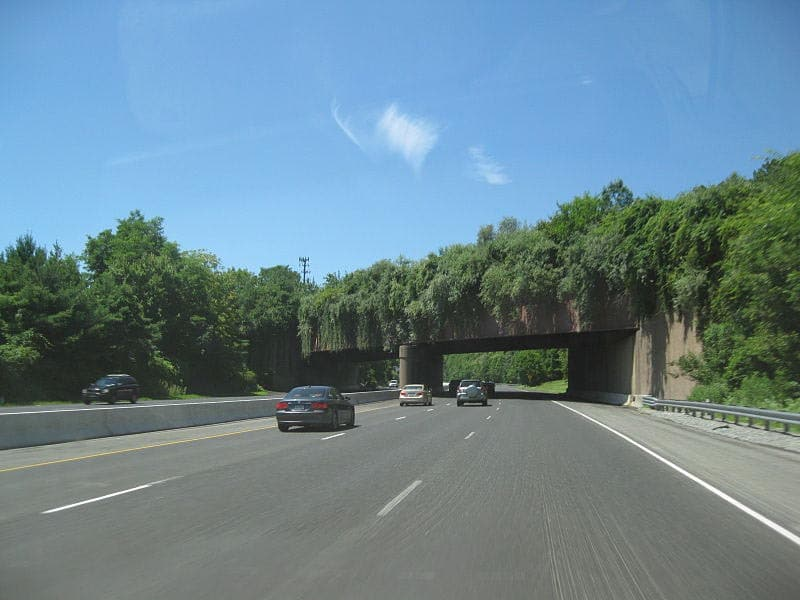bridge: (257, 289, 711, 362)
